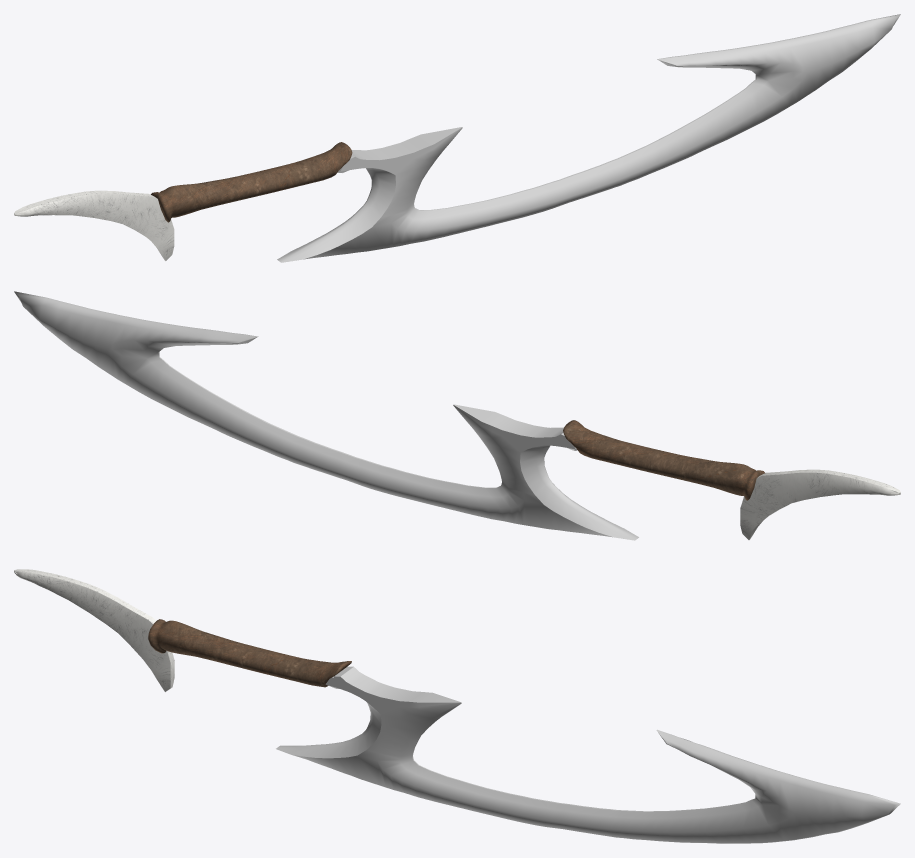
The model's file is sword-1.glb.
The picture shows the model from 3 angles, top to bottom: view 1: azimuth 30°, elevation 25°; view 2: azimuth 150°, elevation 25°; view 3: azimuth 330°, elevation 25°; orthographic projection.
Parts seen in each view (by area): view 1: Box001, Box002, Box003; view 2: Box001, Box002, Box003; view 3: Box001, Box002, Box003.
Boxes of the visible parts, x1=… form: Box001: x1=277, y1=14, x2=900, y2=262; Box002: x1=151, y1=142, x2=352, y2=222; Box003: x1=14, y1=190, x2=174, y2=260; Box001: x1=14, y1=291, x2=638, y2=540; Box002: x1=563, y1=420, x2=764, y2=500; Box003: x1=740, y1=469, x2=900, y2=539; Box001: x1=276, y1=666, x2=900, y2=843; Box002: x1=148, y1=619, x2=351, y2=687; Box003: x1=14, y1=569, x2=174, y2=691.
Bounding box in the file's own units: 1.55 × 0.2185 × 0.053.
Materials: 3 (2 with a texture image).
